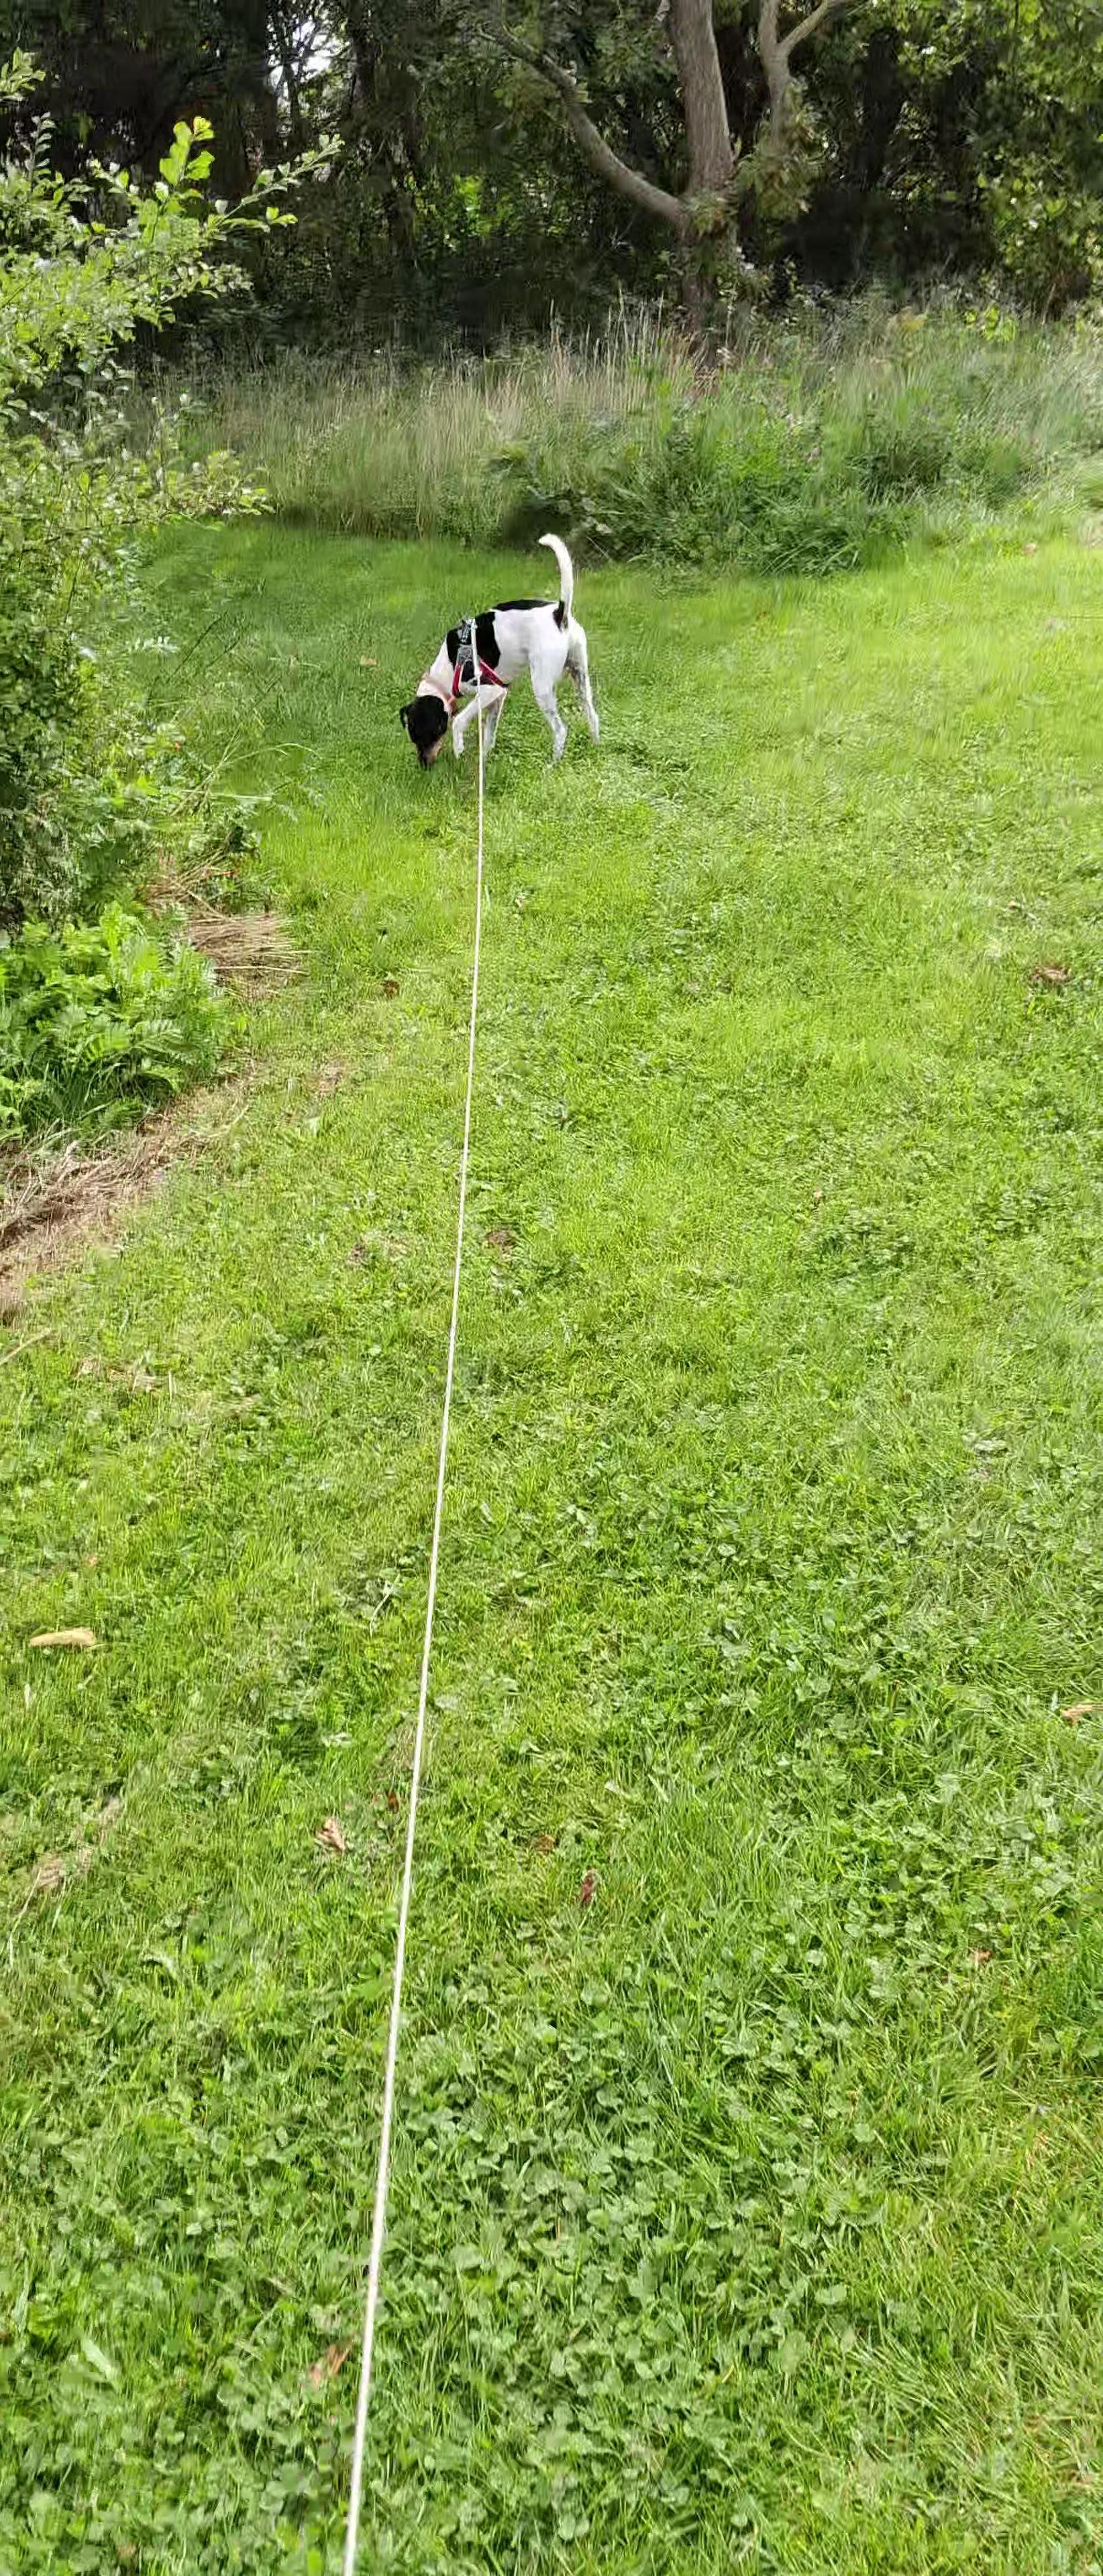Dog: (396, 531, 613, 772)
